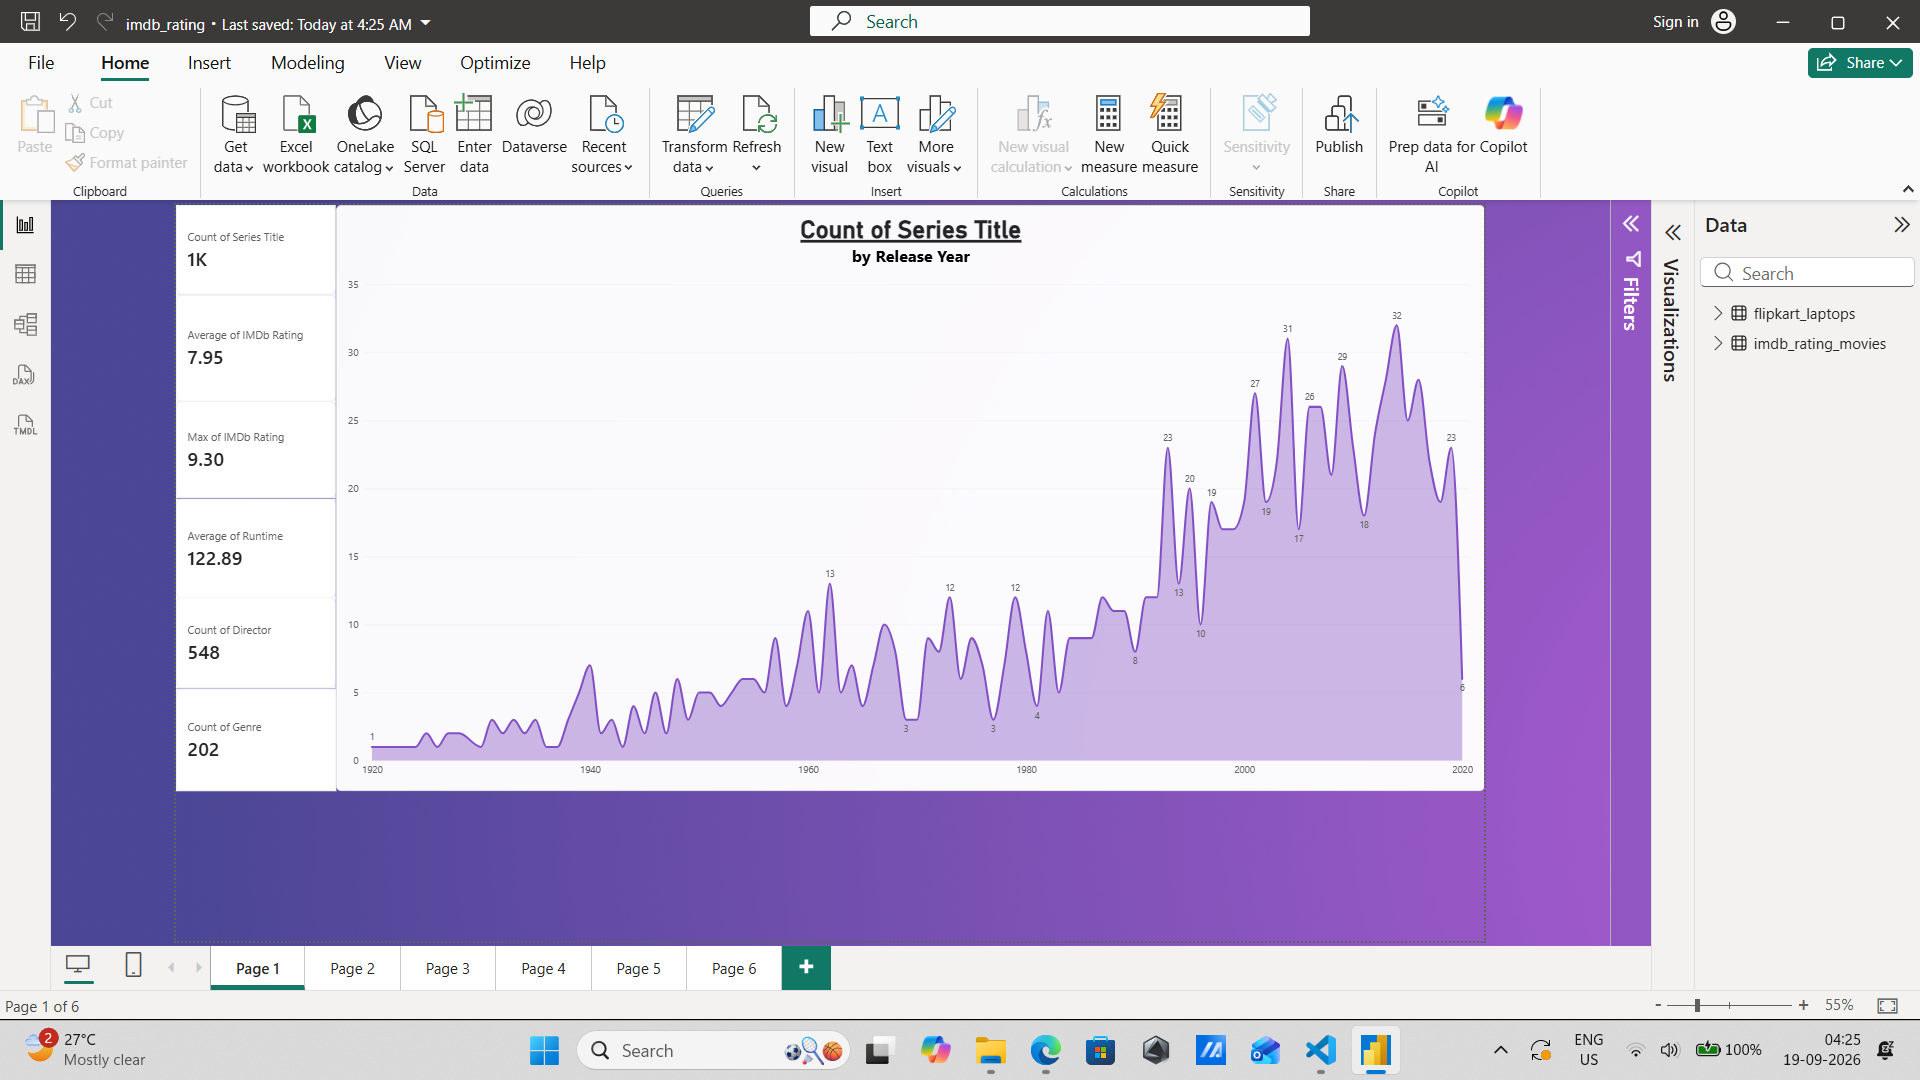

The dashboard page shown, as its layout file describes it:
{"tool":"powerbi","page":{"name":"Page 1","canvas":[1920,1080],"ordinal":0},"visuals":[{"type":"cardVisual","fields":{"Data":["CountNonNull(imdb_top_1000_movies_20260911_205646 (2).Series Title)"]},"box":[0,0,234.6,131.7],"z":0},{"type":"cardVisual","fields":{"Data":["Avg(imdb_top_1000_movies_20260911_205646 (2).IMDb Rating)"]},"box":[0,131.7,234.6,156.4],"z":1},{"type":"cardVisual","fields":{"Data":["Max(imdb_top_1000_movies_20260911_205646 (2).IMDb Rating)"]},"box":[0,288.2,234.6,142],"z":2},{"type":"cardVisual","fields":{"Data":["Avg(imdb_top_1000_movies_20260911_205646 (2).Runtime)"]},"box":[0,430.2,234.6,146.1],"z":3},{"type":"cardVisual","fields":{"Data":["Count(imdb_top_1000_movies_20260911_205646 (2).Director)"]},"box":[0,576.3,234.6,133.8],"z":4},{"type":"cardVisual","fields":{"Data":["Count(imdb_top_1000_movies_20260911_205646 (2).Genre)"]},"box":[0,710.1,235,150],"z":5},{"type":"lineChart","fields":{"Category":["imdb_top_1000_movies_20260911_205646 (2).Release Year"],"Y":["CountNonNull(imdb_top_1000_movies_20260911_205646 (2).Series Title)"]},"box":[234.6,0,1685.8,860.4],"z":6}]}

Visuals, with their boxes on the page's 1920x1080 design canvas (x1, y1, x2, y2). These are canvas units, not pixel positions in the 1920x1080 screenshot, which may show the page scaled, cropped or inside an application window:
cardVisual - CountNonNull(imdb_top_1000_movies_20260911_205646 (2).Series Title): box(0, 0, 235, 132)
cardVisual - Avg(imdb_top_1000_movies_20260911_205646 (2).IMDb Rating): box(0, 132, 235, 288)
cardVisual - Max(imdb_top_1000_movies_20260911_205646 (2).IMDb Rating): box(0, 288, 235, 430)
cardVisual - Avg(imdb_top_1000_movies_20260911_205646 (2).Runtime): box(0, 430, 235, 576)
cardVisual - Count(imdb_top_1000_movies_20260911_205646 (2).Director): box(0, 576, 235, 710)
cardVisual - Count(imdb_top_1000_movies_20260911_205646 (2).Genre): box(0, 710, 235, 860)
lineChart - imdb_top_1000_movies_20260911_205646 (2).Release Year x CountNonNull(imdb_top_1000_movies_20260911_205646 (2).Series Title): box(235, 0, 1920, 860)
